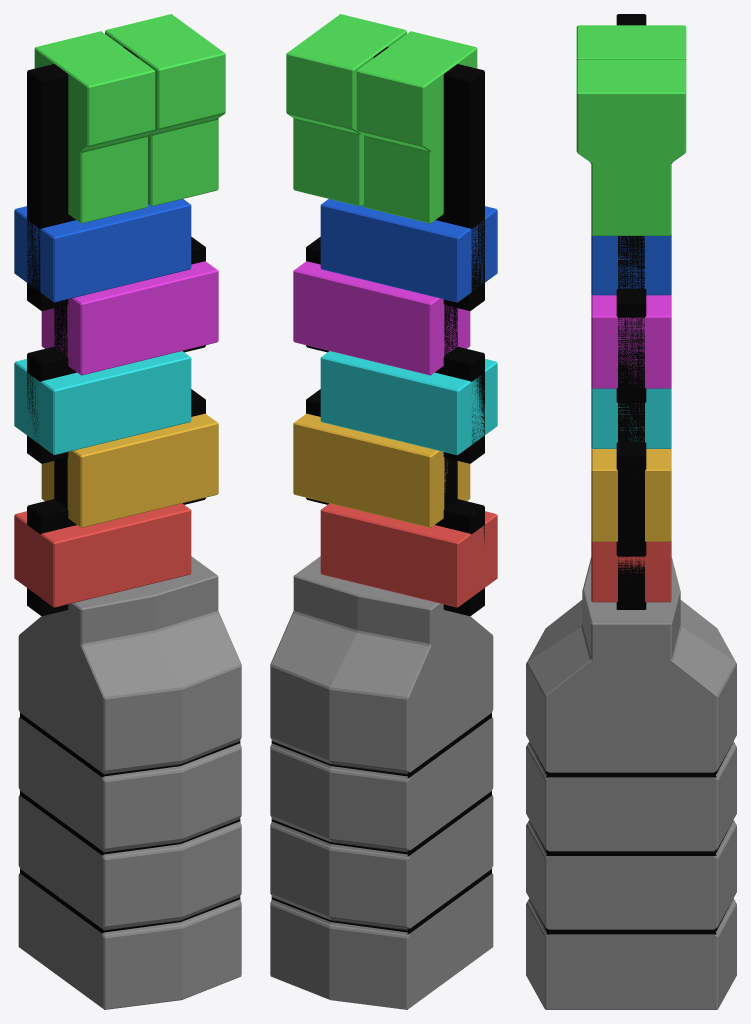
Rendered from cityWallSegment.fbx.
3 views of the same model, side by side, from view 1: azimuth 30°, elevation 25°; view 2: azimuth 150°, elevation 25°; view 3: azimuth 270°, elevation 25° (orthographic).
Parts seen in each view (by area): view 1: cityWallSegment; view 2: cityWallSegment; view 3: cityWallSegment.
Part boxes in pixels (bbox=[...]): cityWallSegment: bbox=[14, 14, 241, 1009]; cityWallSegment: bbox=[270, 14, 497, 1009]; cityWallSegment: bbox=[526, 14, 736, 1009].
Size of the model in its own units: 477 by 2515 by 524.
